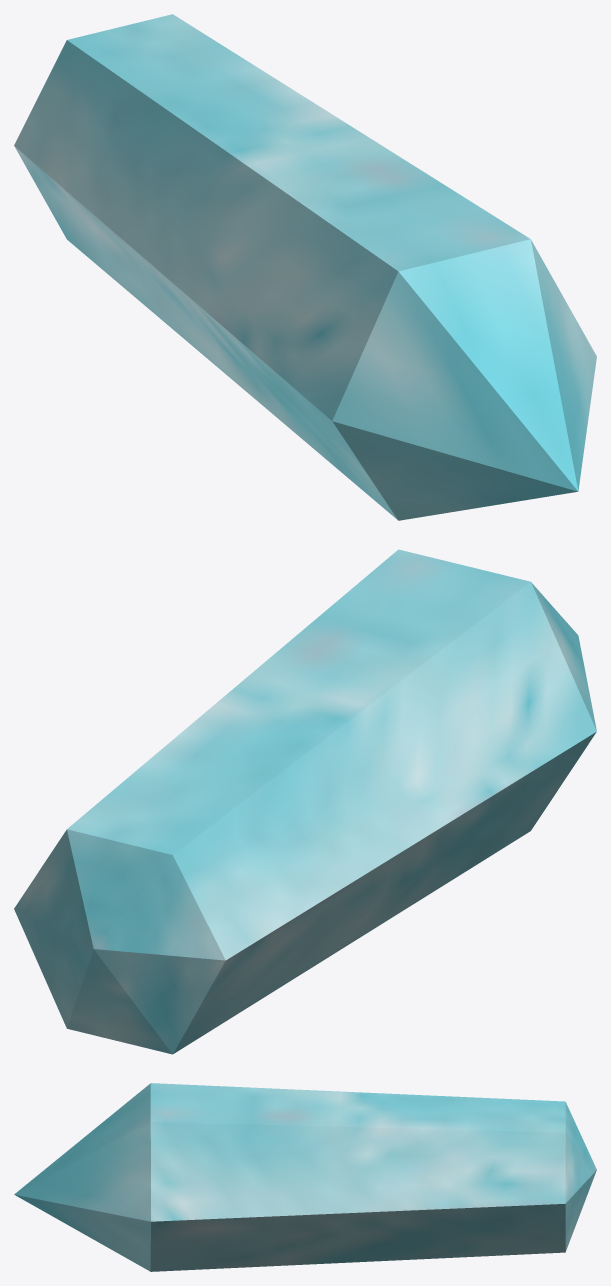
File: vapulacrystal.obj
The picture shows the model from 3 angles, top to bottom: view 1: azimuth 30°, elevation 25°; view 2: azimuth 150°, elevation 25°; view 3: azimuth 270°, elevation 25°; orthographic projection. The views are drawn at different scales.
Parts seen in each view (by area): view 1: Base; view 2: Base; view 3: Base.
Boxes of the visible parts, x1,y1,x2,y2 form: Base: (14, 14, 596, 520); Base: (14, 549, 596, 1054); Base: (14, 1083, 596, 1271).
Size of the model in its own units: 0.3226 by 0.2903 by 1.02.
